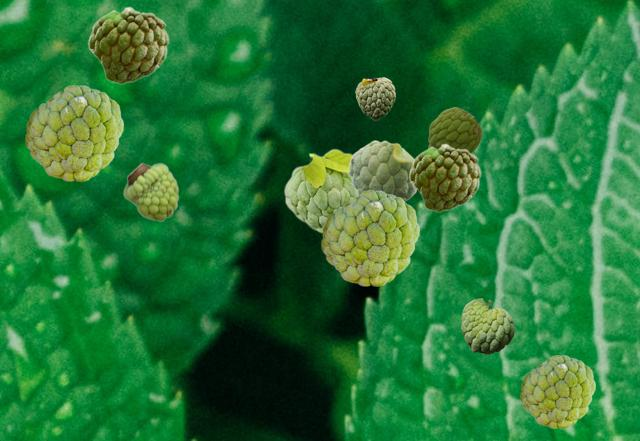atis: (321, 190, 418, 285), (25, 85, 122, 180), (283, 148, 357, 233), (87, 6, 168, 83), (520, 355, 594, 427), (408, 143, 480, 211), (348, 140, 417, 201), (123, 162, 178, 221), (461, 298, 513, 353), (428, 107, 480, 152), (355, 77, 394, 119)
